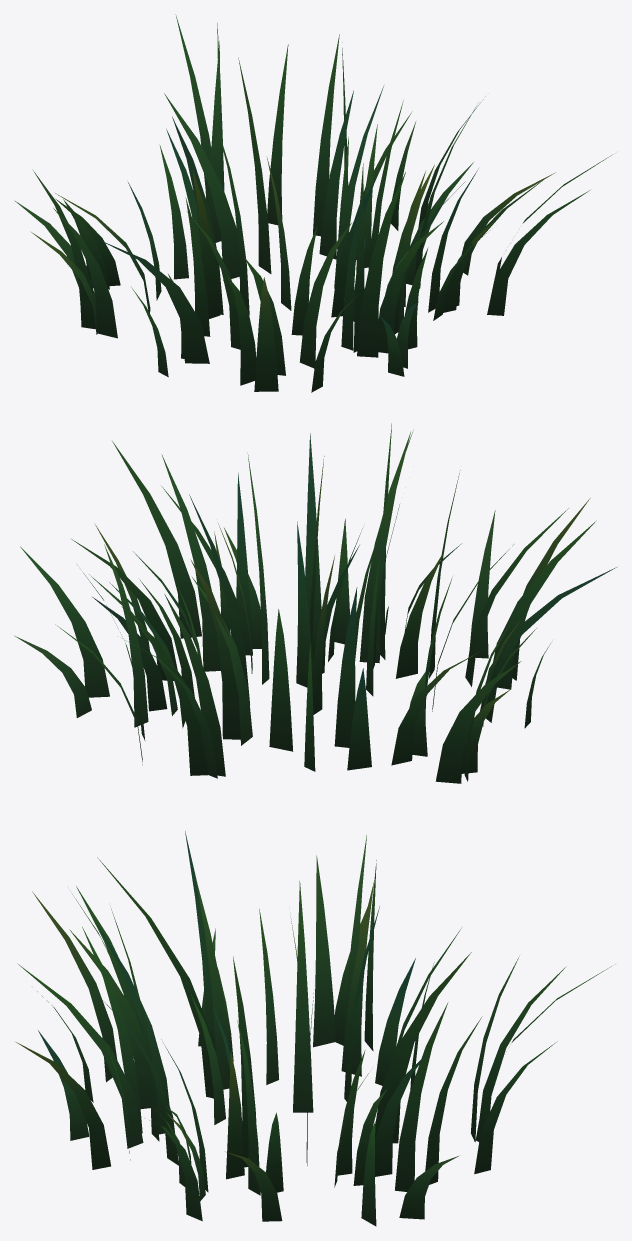
File: cimen_genis.glb
The picture shows the model from 3 angles, top to bottom: view 1: azimuth 30°, elevation 25°; view 2: azimuth 150°, elevation 25°; view 3: azimuth 270°, elevation 25°; orthographic projection. The views are drawn at different scales.
Visible parts, largest first — view 1: cimen_genis_LOD0; view 2: cimen_genis_LOD0; view 3: cimen_genis_LOD0.
Boxes of the visible parts, left/top/right/bottom form: cimen_genis_LOD0: left=14, top=14, right=612, bottom=392; cimen_genis_LOD0: left=14, top=423, right=616, bottom=783; cimen_genis_LOD0: left=16, top=831, right=611, bottom=1226.
Size of what is drawn, in the model's own units: 1.03 by 0.4287 by 0.9861.
